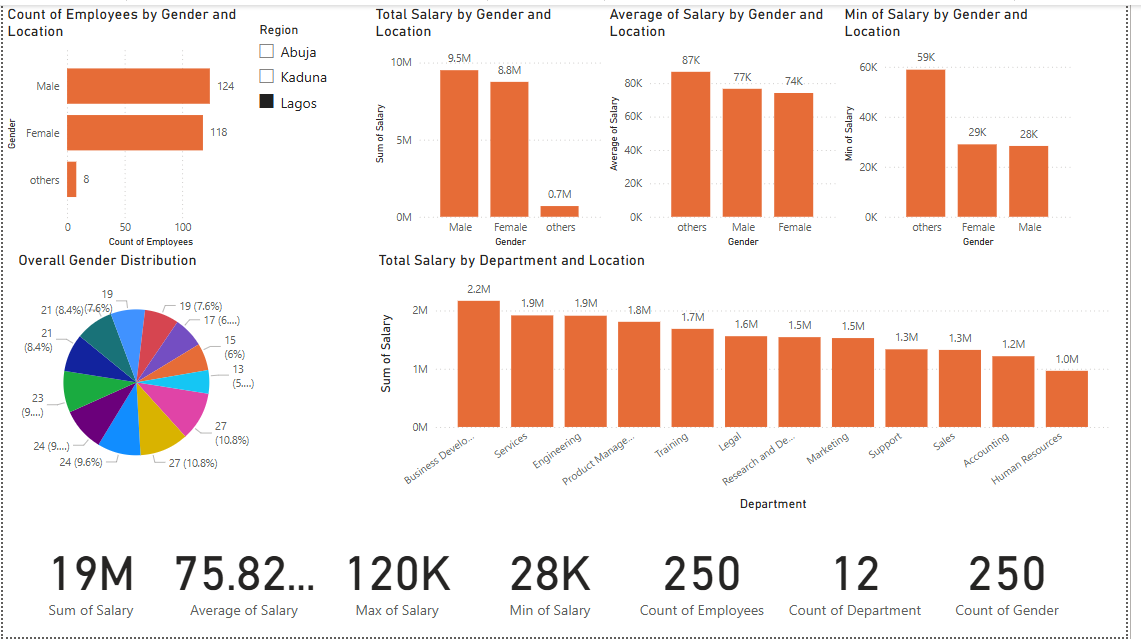

The page's visual inventory and layout, read from the dashboard file:
{"tool":"powerbi","page":{"name":"Page 1","canvas":[1280,720],"ordinal":0},"visuals":[{"type":"clusteredBarChart","fields":{"Category":["Palmoria Group emp-data.Gender"],"Y":["CountNonNull(Palmoria Group emp-data.Employees)"],"Series":["Palmoria Group emp-data.Location"]},"box":[0,0,278.9,280.3],"z":0},{"type":"pieChart","title":"Overall Gender Distribution","fields":{"Y":["CountNonNull(Palmoria Group emp-data.Gender)"],"Category":["Palmoria Group emp-data.Department"]},"box":[12.1,280.3,278.9,280.3],"z":1000},{"type":"slicer","fields":{"Values":["Palmoria Group emp-data.Location"]},"box":[278.9,14.8,278.9,149.6],"z":2000},{"type":"clusteredColumnChart","title":"Total Salary by Gender and Location","fields":{"Category":["Palmoria Group emp-data.Gender"],"Y":["Sum(Palmoria Group emp-data.Salary)"],"Series":["Palmoria Group emp-data.Location"]},"box":[419,0,266.8,280.3],"z":3000},{"type":"clusteredColumnChart","fields":{"Category":["Palmoria Group emp-data.Gender"],"Y":["Avg(Palmoria Group emp-data.Salary)"],"Series":["Palmoria Group emp-data.Location"]},"box":[685.8,0,268.1,280.3],"z":4000},{"type":"clusteredColumnChart","fields":{"Category":["Palmoria Group emp-data.Gender"],"Y":["Min(Palmoria Group emp-data.Salary)"],"Series":["Palmoria Group emp-data.Location"]},"box":[953.9,0,268.1,280.3],"z":5000},{"type":"clusteredColumnChart","title":"Total Salary by Department and Location","fields":{"Y":["Sum(Palmoria Group emp-data.Salary)"],"Category":["Palmoria Group emp-data.Department"],"Series":["Palmoria Group emp-data.Location"]},"box":[423.1,280.3,843.5,300.5],"z":6000},{"type":"card","fields":{"Values":["Sum(Palmoria Group emp-data.Salary)"]},"box":[12.1,580.7,175.2,138.8],"z":7000},{"type":"card","fields":{"Values":["Avg(Palmoria Group emp-data.Salary)"]},"box":[187.3,580.7,175.2,138.8],"z":8000},{"type":"card","fields":{"Values":["Max(Palmoria Group emp-data.Salary)"]},"box":[361.1,580.7,175.2,138.8],"z":9000},{"type":"card","fields":{"Values":["Min(Palmoria Group emp-data.Salary)"]},"box":[534.9,580.7,175.2,138.8],"z":10000},{"type":"card","fields":{"Values":["CountNonNull(Palmoria Group emp-data.Employees)"]},"box":[708.7,580.7,175.2,138.8],"z":11000},{"type":"card","fields":{"Values":["Count(Palmoria Group emp-data.Department)"]},"box":[882.5,580.7,175.2,138.8],"z":12000},{"type":"card","fields":{"Values":["CountNonNull(Palmoria Group emp-data.Gender)"]},"box":[1056.3,580.7,175.2,138.8],"z":13000}]}

Visuals, with their boxes in screenshot pixels (x1, y1, x2, y2), scaled from the page's 1280x720 canvas onto the 1141x639 screenshot:
clusteredBarChart - Palmoria Group emp-data.Gender x CountNonNull(Palmoria Group emp-data.Employees): <box>0,0,249,249</box>
"Overall Gender Distribution" pieChart: <box>11,249,259,498</box>
slicer - Palmoria Group emp-data.Location: <box>249,13,497,146</box>
"Total Salary by Gender and Location" clusteredColumnChart: <box>373,0,611,249</box>
clusteredColumnChart - Palmoria Group emp-data.Gender x Avg(Palmoria Group emp-data.Salary): <box>611,0,850,249</box>
clusteredColumnChart - Palmoria Group emp-data.Gender x Min(Palmoria Group emp-data.Salary): <box>850,0,1089,249</box>
"Total Salary by Department and Location" clusteredColumnChart: <box>377,249,1129,515</box>
card - Sum(Palmoria Group emp-data.Salary): <box>11,515,167,638</box>
card - Avg(Palmoria Group emp-data.Salary): <box>167,515,323,638</box>
card - Max(Palmoria Group emp-data.Salary): <box>322,515,478,638</box>
card - Min(Palmoria Group emp-data.Salary): <box>477,515,633,638</box>
card - CountNonNull(Palmoria Group emp-data.Employees): <box>632,515,788,638</box>
card - Count(Palmoria Group emp-data.Department): <box>787,515,943,638</box>
card - CountNonNull(Palmoria Group emp-data.Gender): <box>942,515,1098,638</box>
